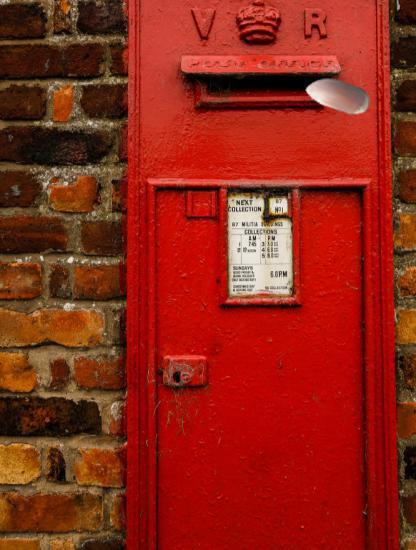Hazelnut: (305, 62, 372, 129)
